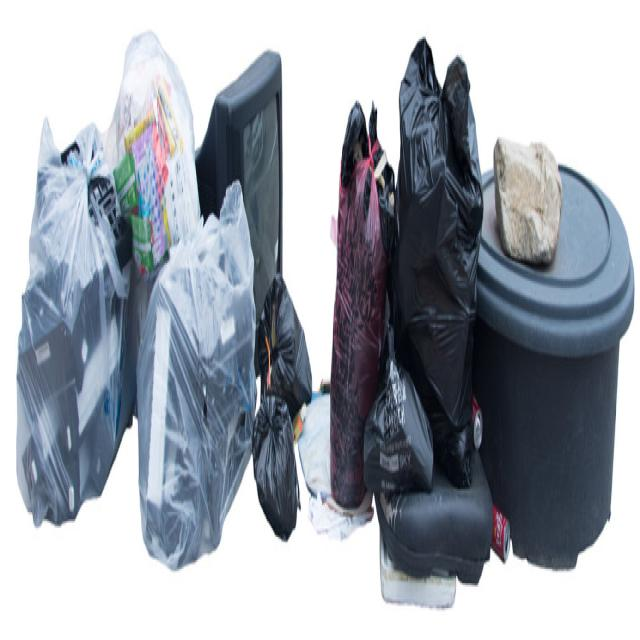metal: (208, 75, 283, 279)
plastic: (494, 234, 626, 546)
trash: (35, 133, 203, 551), (350, 41, 470, 505), (266, 306, 302, 526)
